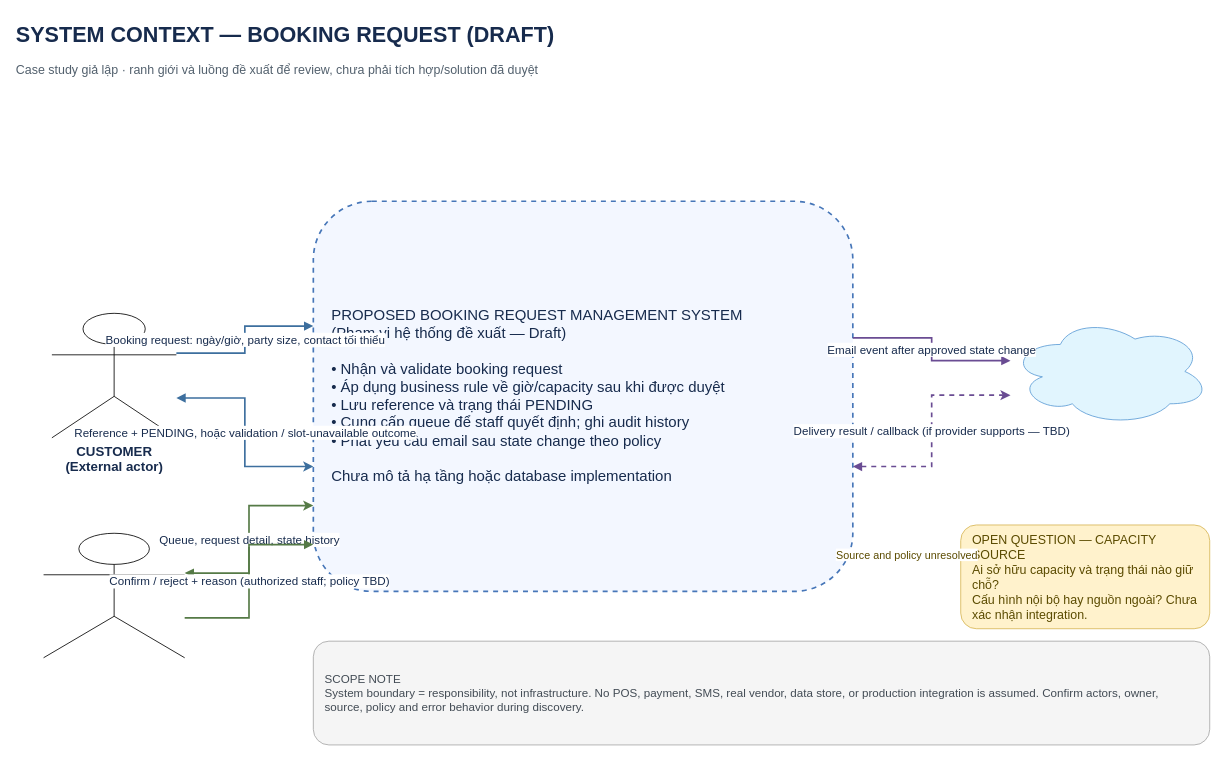
Some shapes in this 1232 by 759 pixel diagram are drawn without their labels. Each missing label, with the centre of its shape:
"EMAIL PROVIDER (External service — proposed)" goes at pixel 1110 371.
"RESTAURANT STAFF (Reception / manager)" goes at pixel 114 595.
